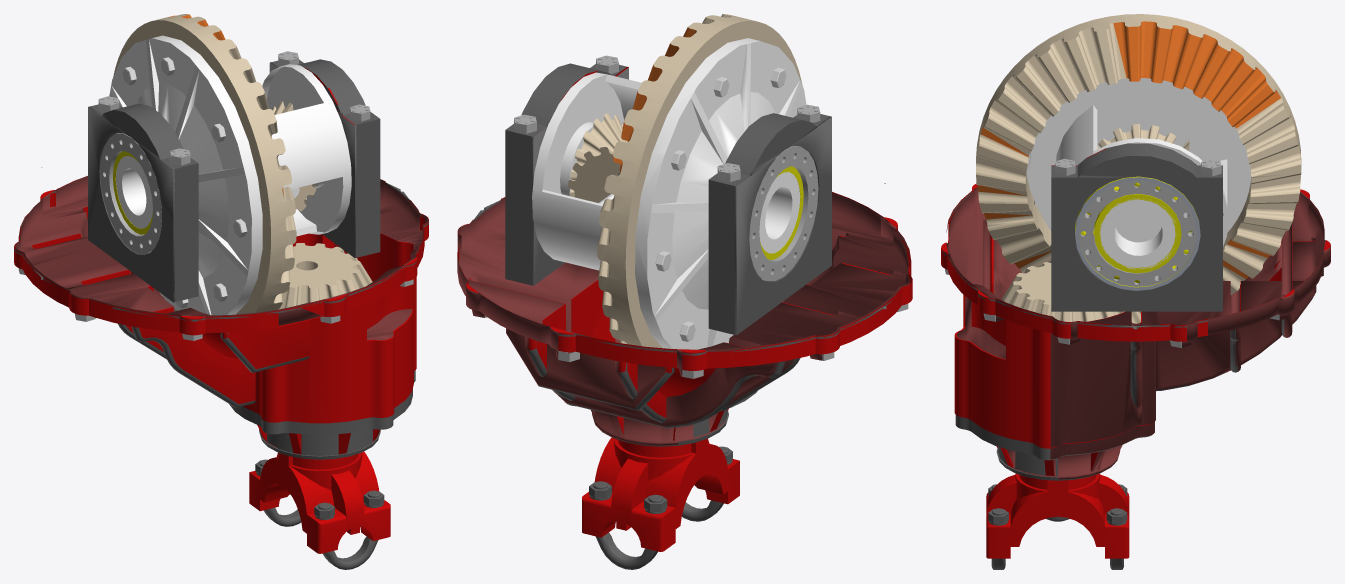
File: perkaitan gigi.fbx
3 views of the same model, side by side, from view 1: azimuth 30°, elevation 25°; view 2: azimuth 150°, elevation 25°; view 3: azimuth 270°, elevation 25° (orthographic). The views are drawn at different scales.
Visible parts, largest first — view 1: 7, 1, Cube, 6.001; view 2: 7, 1, Cube, 4.001, 3.001; view 3: 1, 7, Cube, 6.001, 2.001.
Boxes of the visible parts, box(x1,y1,x2,y2) form: 7: box(14, 51, 428, 569); 1: box(109, 14, 351, 315); Cube: box(15, 176, 427, 447); 6.001: box(278, 243, 372, 309); 7: box(457, 55, 912, 569); 1: box(532, 14, 806, 349); Cube: box(457, 193, 909, 445); 4.001: box(568, 147, 620, 203); 3.001: box(569, 113, 627, 197); 1: box(976, 14, 1301, 312); 7: box(941, 143, 1330, 569); Cube: box(946, 187, 1330, 479); 6.001: box(1002, 262, 1140, 323); 2.001: box(1098, 124, 1182, 147).
Size of the model in its own units: 31420 by 42160 by 29237.
